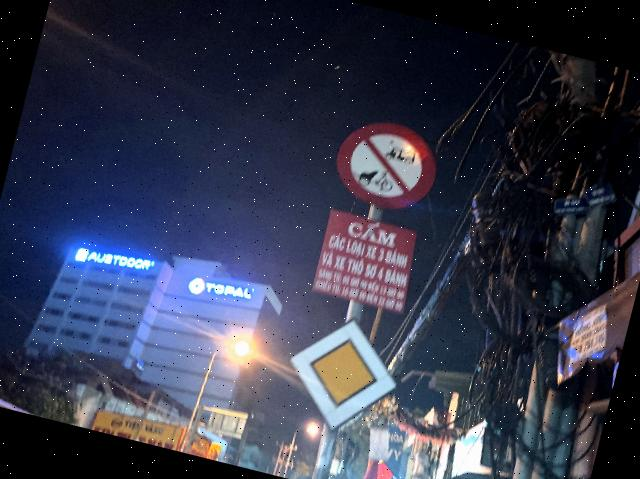bat-dau-duong-uu-tien: (274, 302, 412, 446)
cam-xe-3-banh-xe-tho-so-4-banh: (327, 111, 445, 220)
